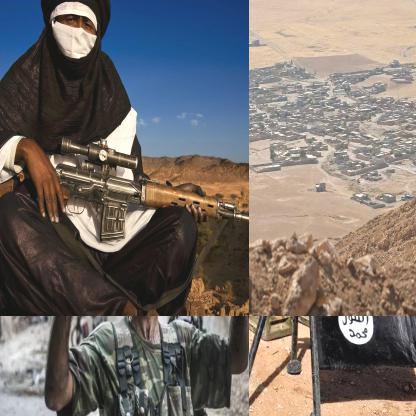rifle: (0, 135, 248, 247)
